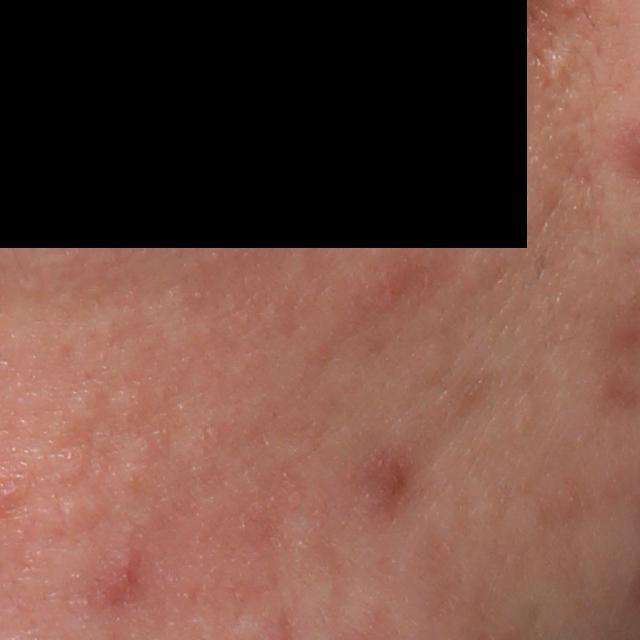hypertrophic_scar: (53, 487, 111, 535), (63, 384, 101, 430), (108, 385, 150, 423), (122, 435, 159, 467)
papule: (100, 538, 144, 599)
